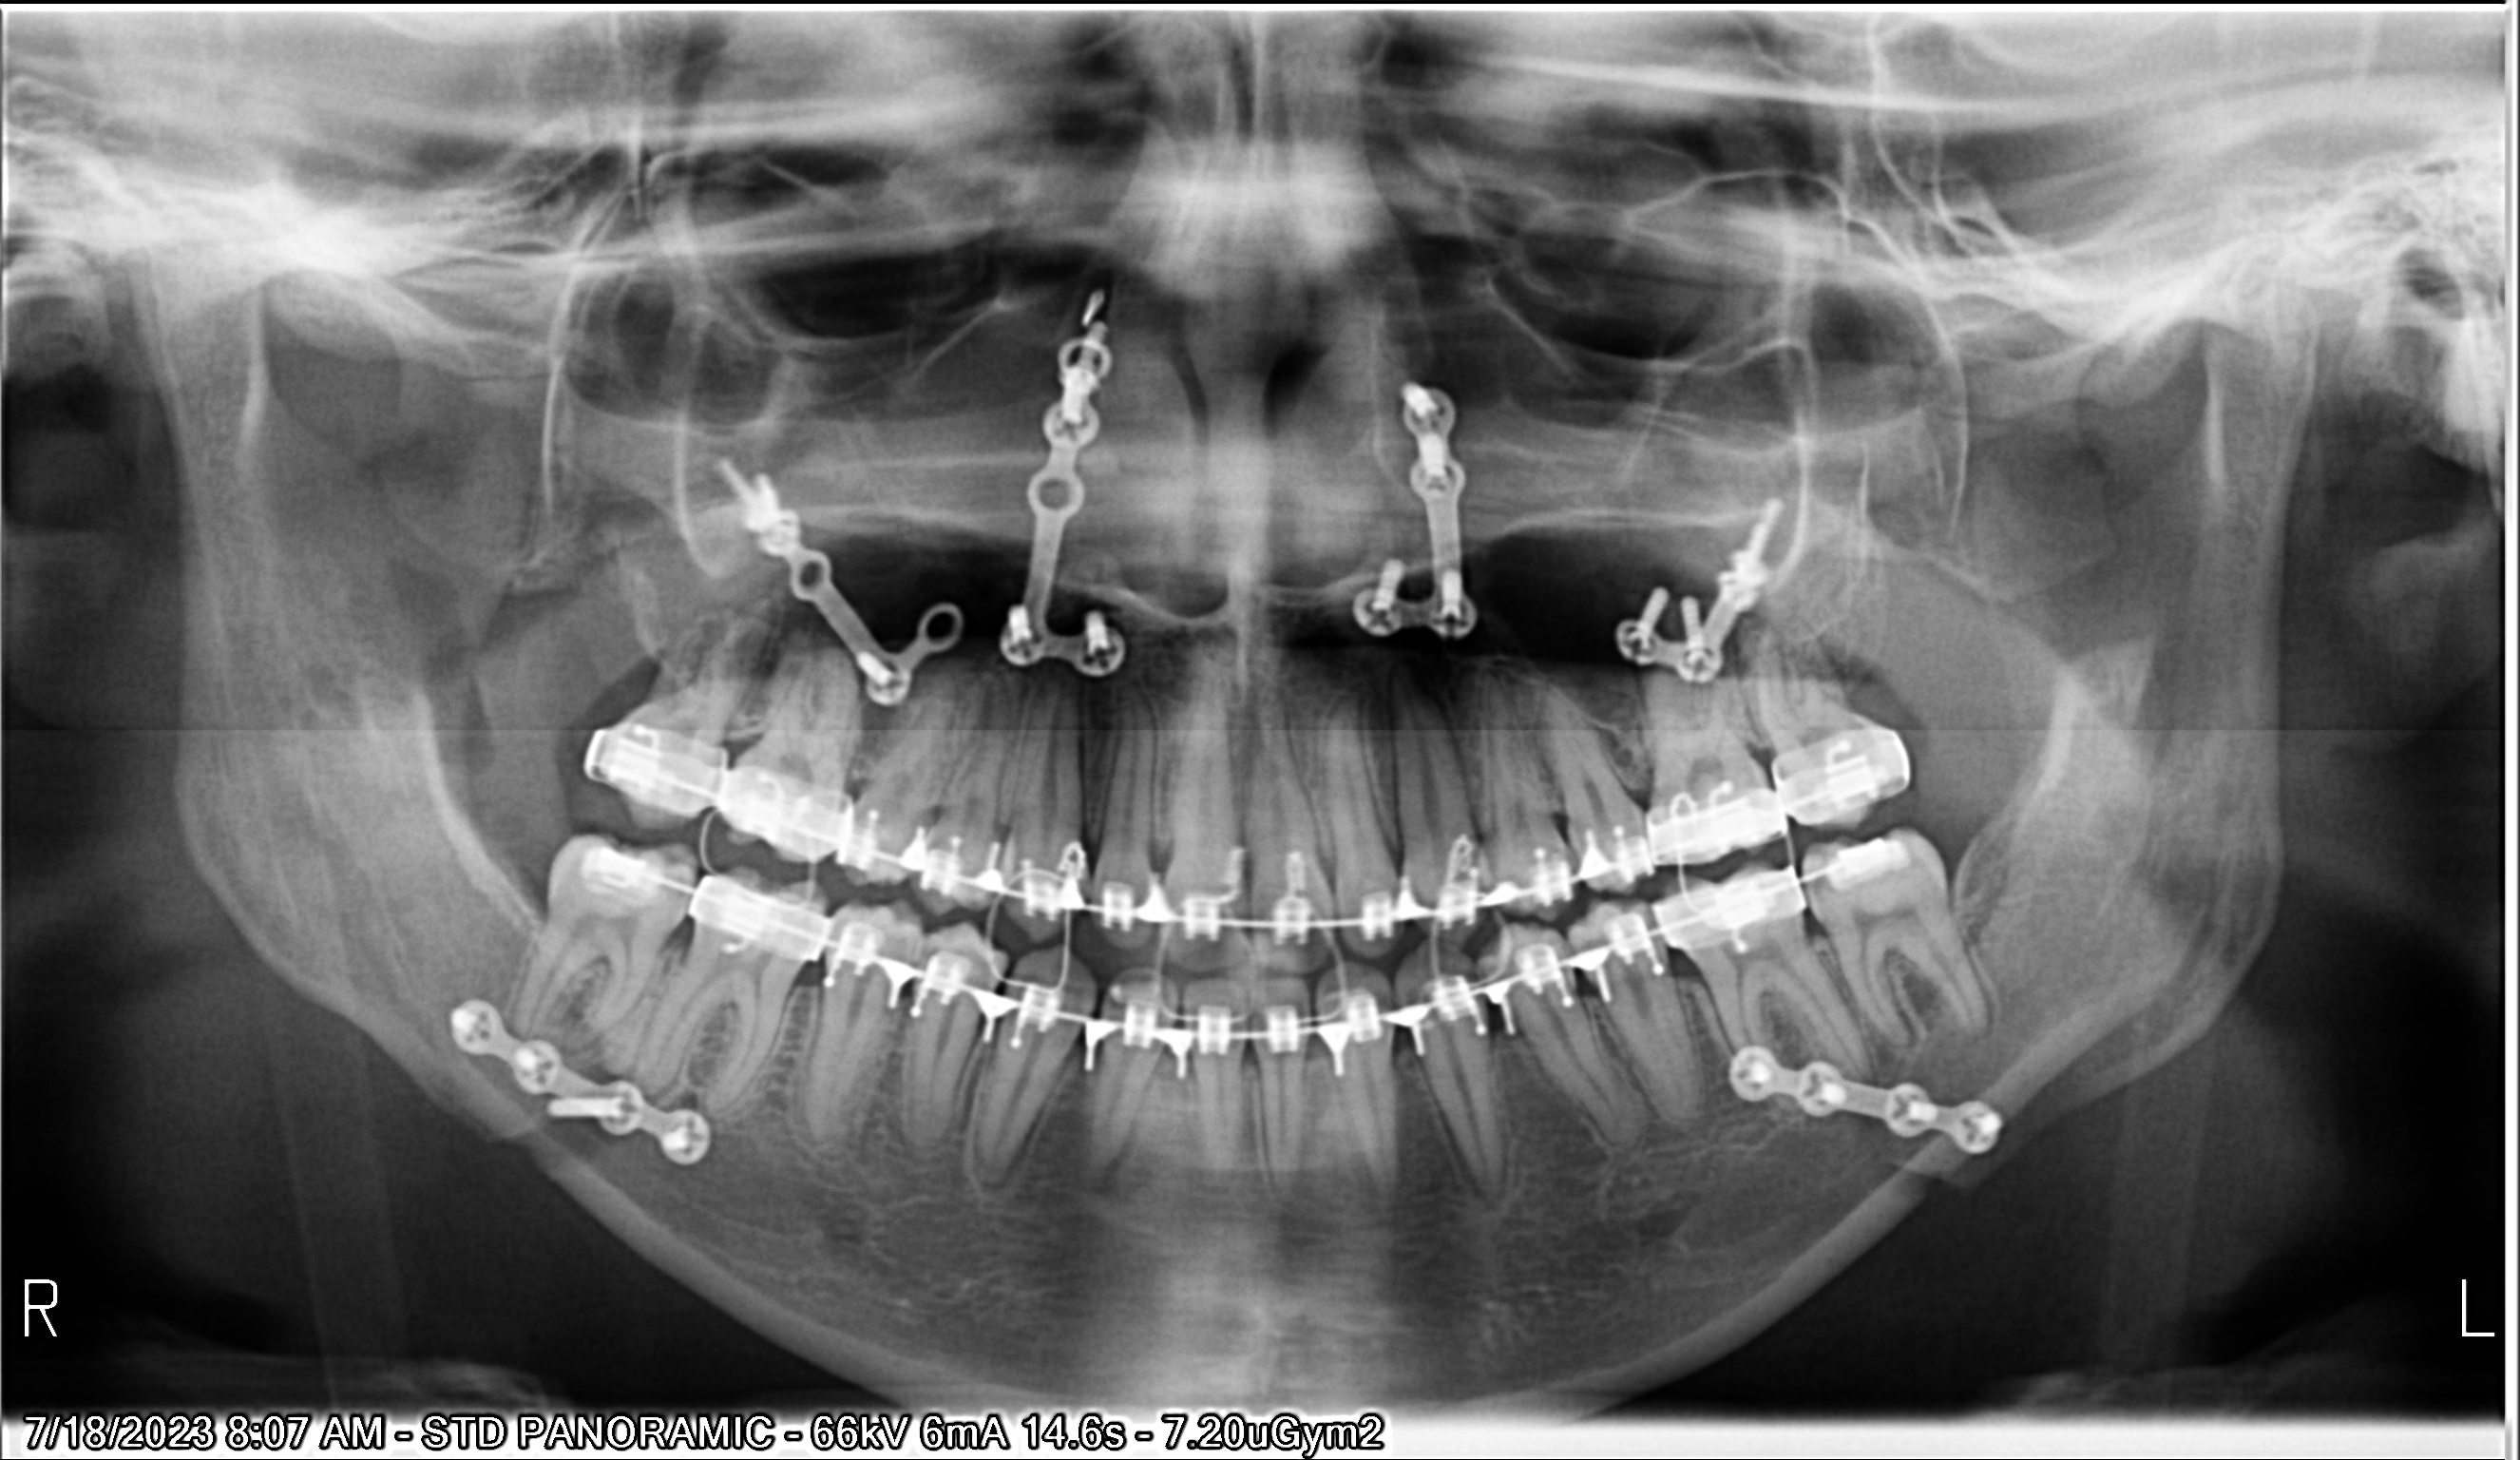ORD: (821, 919, 1636, 1065), (1653, 733, 1966, 972), (557, 730, 877, 956), (858, 834, 1591, 932)
SRD: (691, 417, 981, 723), (988, 339, 1157, 707), (420, 987, 736, 1168), (1601, 485, 1832, 707), (1337, 384, 1523, 659), (1718, 1024, 2034, 1151)
